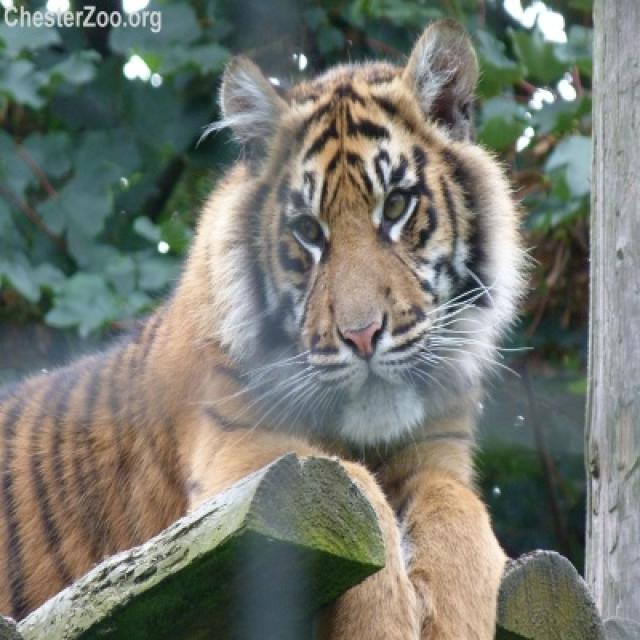Tiger: (0, 17, 519, 636)
